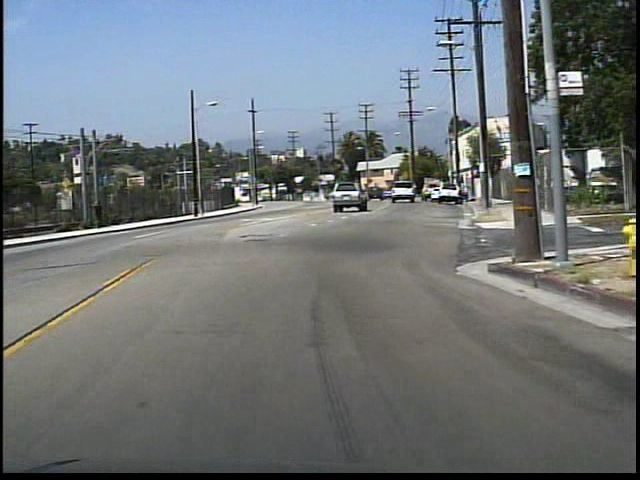person: (95, 197, 109, 230)
